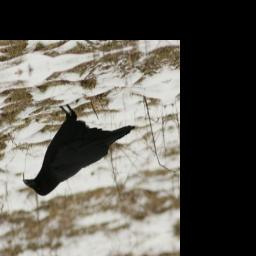Crow: (14, 88, 139, 206)
